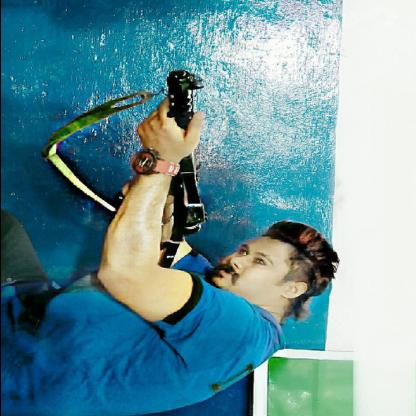rifle: (156, 68, 210, 270)
